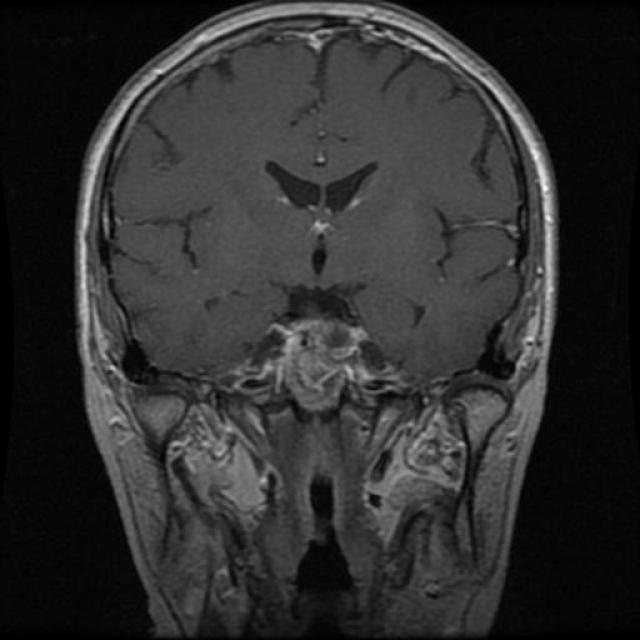Brain-Tumor: (269, 304, 371, 418)
